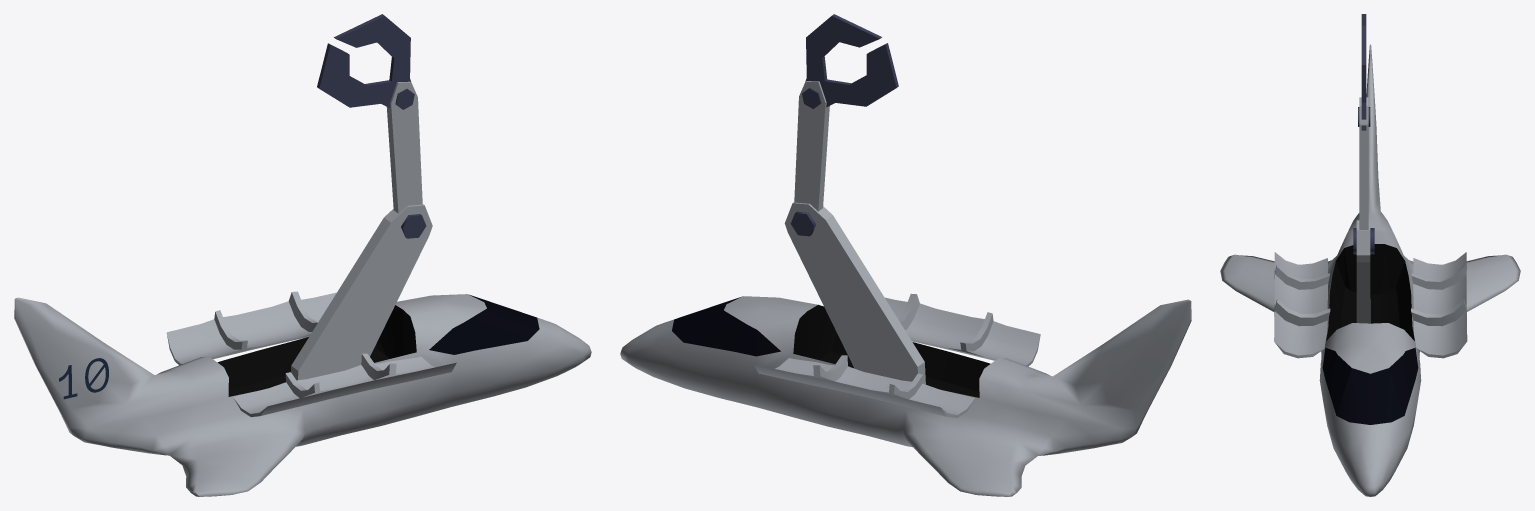
The picture shows the model from 3 angles, left to right: view 1: azimuth 30°, elevation 25°; view 2: azimuth 150°, elevation 25°; view 3: azimuth 270°, elevation 25°; orthographic projection. The views are drawn at different scales.
Parts seen in each view (by area): view 1: Ship, Arm1, L-Door, R-Door, Claw, Arm2; view 2: Ship, Arm1, R-Door, L-Door, Claw, Arm2; view 3: Ship, R-Door, L-Door, Arm1, Arm2, Claw.
Boxes of the visible parts, x1=… form: Ship: x1=14, y1=294, x2=591, y2=496; Arm1: x1=291, y1=204, x2=432, y2=380; L-Door: x1=166, y1=291, x2=336, y2=365; R-Door: x1=233, y1=353, x2=456, y2=417; Claw: x1=317, y1=14, x2=410, y2=107; Arm2: x1=386, y1=81, x2=422, y2=213; Ship: x1=620, y1=296, x2=1191, y2=496; Arm1: x1=784, y1=202, x2=925, y2=384; R-Door: x1=885, y1=293, x2=1040, y2=366; L-Door: x1=753, y1=355, x2=974, y2=417; Claw: x1=805, y1=14, x2=898, y2=107; Arm2: x1=794, y1=81, x2=829, y2=211; Ship: x1=1220, y1=44, x2=1520, y2=496; R-Door: x1=1274, y1=252, x2=1330, y2=358; L-Door: x1=1411, y1=252, x2=1467, y2=358; Arm1: x1=1356, y1=220, x2=1370, y2=323; Arm2: x1=1359, y1=97, x2=1368, y2=229; Claw: x1=1361, y1=14, x2=1366, y2=130.
Size of the model in its own units: 109 by 72.44 by 51.69.
